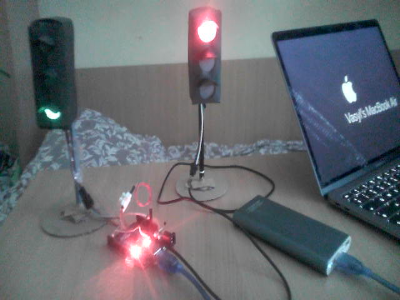trafficlight_green: (27, 23, 71, 126)
trafficlight_red: (191, 11, 222, 105)
